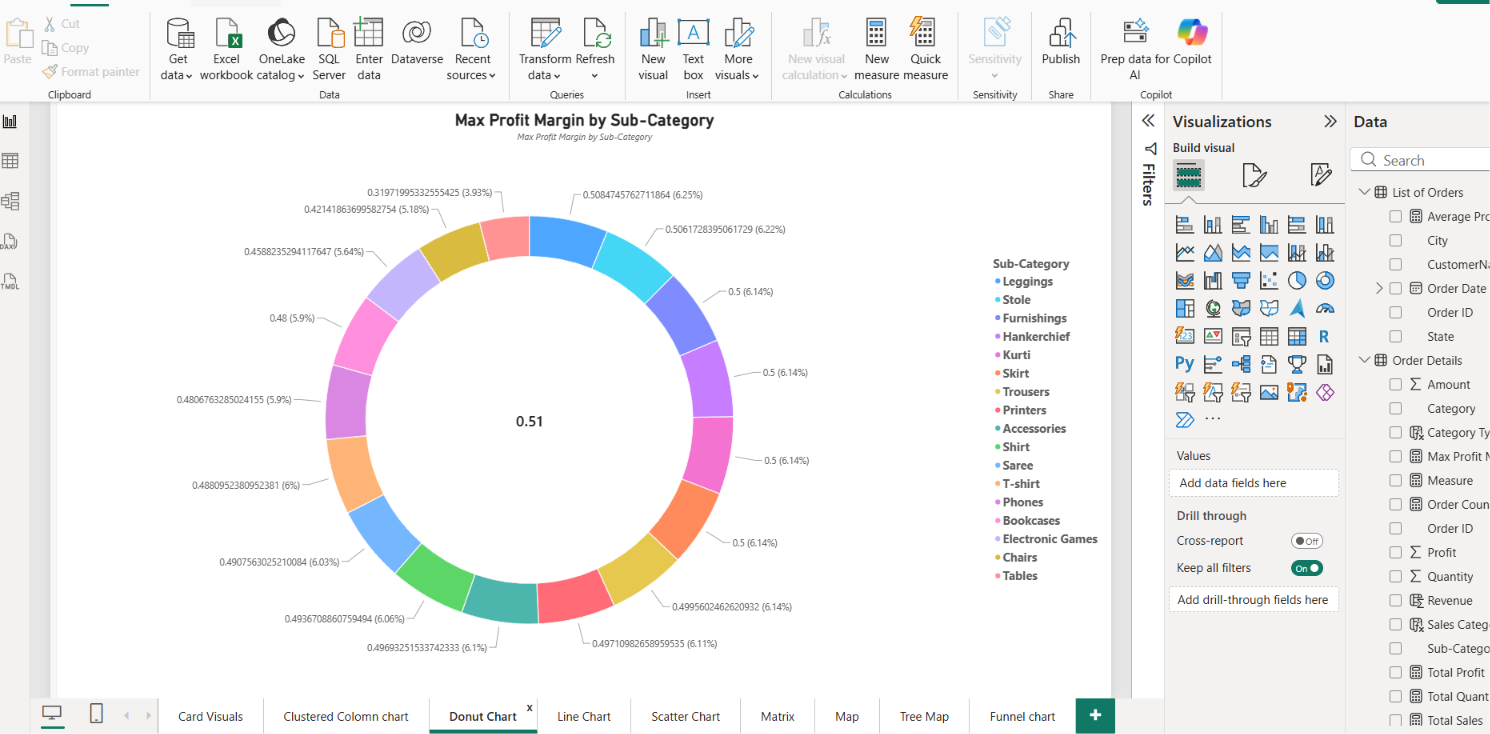

This screenshot's page, from the dashboard's own definition file:
{"tool":"powerbi","page":{"name":"Donut Chart","canvas":[1920,1080],"ordinal":2},"visuals":[{"type":"donutChart","title":"Max Profit Margin by Sub-Category","fields":{"Category":["Order Details.Sub-Category"],"Y":["Order Details.Max Profit Margin"]},"box":[10.3,0,1910.1,1080.6],"z":0}]}

Visuals, with their boxes on the page's 1920x1080 design canvas (x1, y1, x2, y2). These are canvas units, not pixel positions in the 1490x734 screenshot, which may show the page scaled, cropped or inside an application window:
"Max Profit Margin by Sub-Category" donutChart: {"left": 10, "top": 0, "right": 1920, "bottom": 1081}
